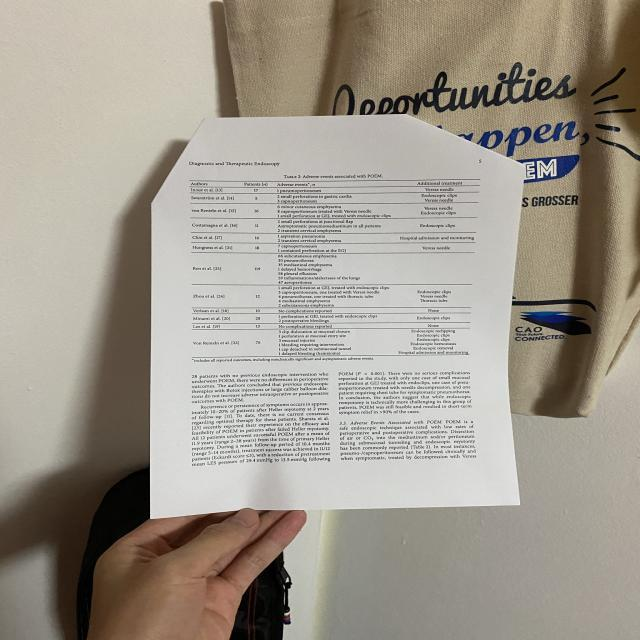document: (150, 115, 525, 518)
